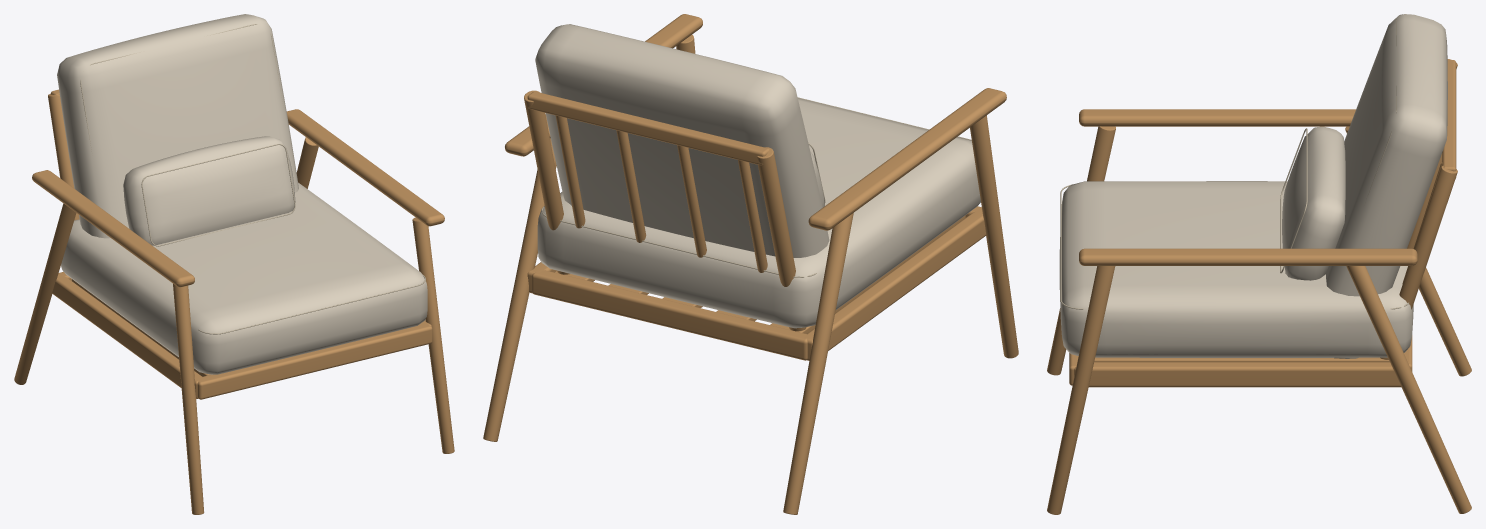
File: armchair-berlin-v1.glb
3 views of the same model, side by side, from view 1: azimuth 30°, elevation 25°; view 2: azimuth 150°, elevation 25°; view 3: azimuth 270°, elevation 25° (orthographic). The views are drawn at different scales.
Visible parts, largest first — view 1: seat-cushion, back-cushion, waist-pillow, seat-front-rail, seat-side--1, straight-arm--1, straight-arm-1, front-leg--1, front-leg-1, rear-leg--1, back-stile--1, waist-piping (+1 smaller); view 2: back-cushion, seat-cushion, seat-back-rail, seat-side--1, straight-arm--1, rear-leg--1, back-top-rail, front-leg--1, rear-leg-1, back-stile--1, back-stile-1, straight-arm-1 (+5 smaller); view 3: seat-cushion, back-cushion, seat-side-1, waist-pillow, straight-arm-1, straight-arm--1, rear-leg-1, front-leg-1, back-stile-1, front-leg--1, rear-leg--1, seat-slat-4 (+3 smaller).
Boxes of the visible parts, <box> form: seat-cushion: <box>61,182,427,374</box>; back-cushion: <box>57,14,298,238</box>; waist-pillow: <box>123,136,295,245</box>; seat-front-rail: <box>197,324,432,399</box>; seat-side--1: <box>52,274,203,398</box>; straight-arm--1: <box>32,170,194,287</box>; straight-arm-1: <box>286,109,444,226</box>; front-leg--1: <box>173,284,204,514</box>; front-leg-1: <box>412,217,454,453</box>; rear-leg--1: <box>14,203,76,384</box>; back-stile--1: <box>48,94,79,220</box>; waist-piping: <box>141,144,295,246</box>; back-cushion: <box>535,24,829,257</box>; seat-cushion: <box>537,98,980,328</box>; seat-back-rail: <box>532,270,807,360</box>; seat-side--1: <box>804,209,986,360</box>; straight-arm--1: <box>808,88,1006,230</box>; rear-leg--1: <box>783,213,853,514</box>; back-top-rail: <box>527,91,769,165</box>; front-leg--1: <box>970,115,1018,358</box>; rear-leg-1: <box>483,138,556,441</box>; back-stile--1: <box>756,147,806,331</box>; back-stile-1: <box>524,90,569,274</box>; straight-arm-1: <box>505,14,702,156</box>; seat-cushion: <box>1059,181,1413,357</box>; back-cushion: <box>1326,14,1447,358</box>; seat-side-1: <box>1074,362,1401,387</box>; waist-pillow: <box>1282,126,1345,280</box>; straight-arm-1: <box>1079,248,1417,265</box>; straight-arm--1: <box>1079,109,1355,126</box>; rear-leg-1: <box>1346,266,1471,513</box>; front-leg-1: <box>1047,266,1115,514</box>; back-stile-1: <box>1380,165,1457,359</box>; front-leg--1: <box>1047,126,1115,375</box>; rear-leg--1: <box>1345,126,1471,376</box>; seat-slat-4: <box>1094,357,1389,362</box>.
Bounding box in the file's own units: 0.71 × 0.845 × 0.85.
